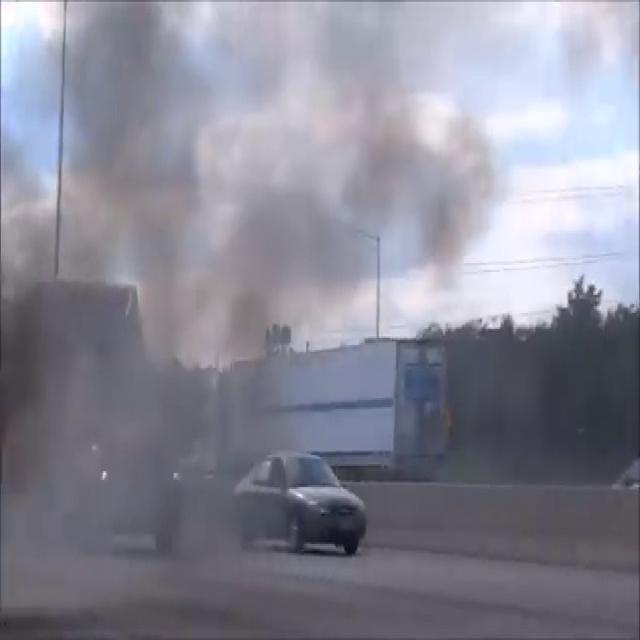Smoke: (0, 0, 351, 617), (4, 1, 506, 340)
